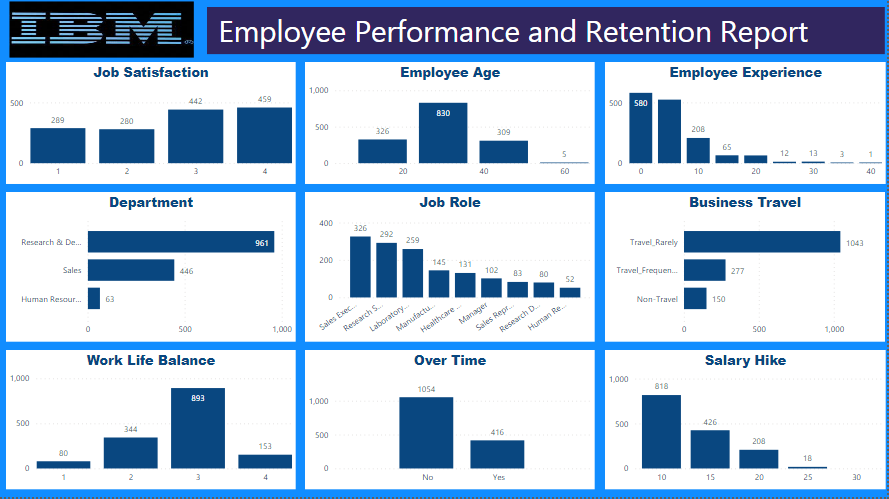

What the dashboard file says about the page in this screenshot:
{"tool":"powerbi","page":{"name":"Main","canvas":[1280,720],"ordinal":0},"visuals":[{"type":"barChart","title":"Department","fields":{"Category":["WA_Fn-UseC_-HR-Employee-Attrition.Department"],"Y":["CountNonNull(WA_Fn-UseC_-HR-Employee-Attrition.Department)"]},"box":[10.1,279.9,418.4,216.4],"z":0},{"type":"clusteredColumnChart","title":"Job Role","fields":{"Category":["WA_Fn-UseC_-HR-Employee-Attrition.JobRole"],"Y":["CountNonNull(WA_Fn-UseC_-HR-Employee-Attrition.JobRole)"]},"box":[441.5,279.9,418.4,216.4],"z":1000},{"type":"clusteredBarChart","title":"Business Travel","fields":{"Category":["WA_Fn-UseC_-HR-Employee-Attrition.BusinessTravel"],"Y":["CountNonNull(WA_Fn-UseC_-HR-Employee-Attrition.BusinessTravel)"]},"box":[874.4,279.9,404,216.4],"z":2000},{"type":"columnChart","title":"Employee Experience","fields":{"Category":["WA_Fn-UseC_-HR-Employee-Attrition.Exp"],"Y":["CountNonNull(WA_Fn-UseC_-HR-Employee-Attrition.Exp)"]},"box":[874.4,92.3,405.5,176],"z":3000},{"type":"clusteredColumnChart","title":"Over Time","fields":{"Category":["WA_Fn-UseC_-HR-Employee-Attrition.OverTime"],"Y":["CountNonNull(WA_Fn-UseC_-HR-Employee-Attrition.OverTime)"]},"box":[441.5,507.9,418.4,200.6],"z":4000},{"type":"clusteredColumnChart","title":"Salary Hike","fields":{"Category":["WA_Fn-UseC_-HR-Employee-Attrition.PercentSalaryHike (bins)"],"Y":["CountNonNull(WA_Fn-UseC_-HR-Employee-Attrition.PercentSalaryHike (bins))"]},"box":[874.4,507.9,405.5,200.6],"z":5000},{"type":"columnChart","title":"Employee Age","fields":{"Category":["WA_Fn-UseC_-HR-Employee-Attrition.Age Group"],"Y":["CountNonNull(WA_Fn-UseC_-HR-Employee-Attrition.Age Group)"]},"box":[441.5,92.3,418.4,176],"z":6000},{"type":"columnChart","title":"Job Satisfaction","fields":{"Category":["WA_Fn-UseC_-HR-Employee-Attrition.JobSatisfaction"],"Y":["CountNonNull(WA_Fn-UseC_-HR-Employee-Attrition.JobSatisfaction)"]},"box":[10.1,92.3,418.4,176],"z":7000},{"type":"columnChart","title":"Work Life Balance","fields":{"Category":["WA_Fn-UseC_-HR-Employee-Attrition.WorkLifeBalance"],"Y":["CountNonNull(WA_Fn-UseC_-HR-Employee-Attrition.WorkLifeBalance)"]},"box":[10.1,507.9,418.4,200.6],"z":8000},{"type":"textbox","box":[300.1,13,978.3,67.8],"z":9000},{"type":"image","box":[10.1,0,275.6,90.9],"z":10000}]}

Visuals, with their boxes in screenshot pixels (x1, y1, x2, y2), scaled from the page's 1280x720 canvas onto the 889x499 screenshot:
"Department" barChart: (7, 194, 298, 344)
"Job Role" clusteredColumnChart: (307, 194, 597, 344)
"Business Travel" clusteredBarChart: (607, 194, 888, 344)
"Employee Experience" columnChart: (607, 64, 888, 186)
"Over Time" clusteredColumnChart: (307, 352, 597, 491)
"Salary Hike" clusteredColumnChart: (607, 352, 888, 491)
"Employee Age" columnChart: (307, 64, 597, 186)
"Job Satisfaction" columnChart: (7, 64, 298, 186)
"Work Life Balance" columnChart: (7, 352, 298, 491)
textbox: (208, 9, 888, 56)
image: (7, 0, 198, 63)
